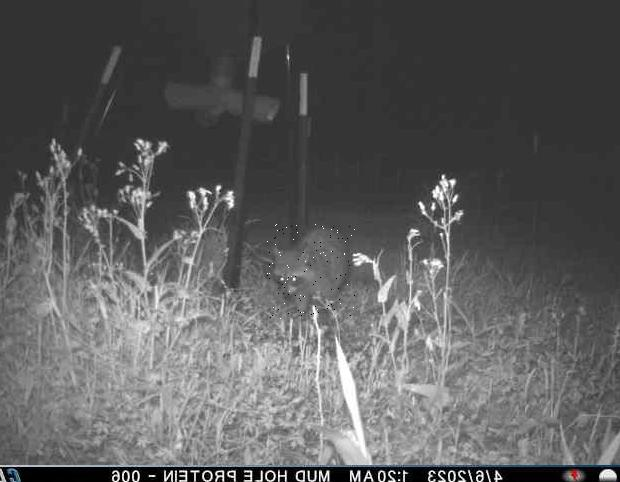Raccoon: (267, 224, 355, 321)
